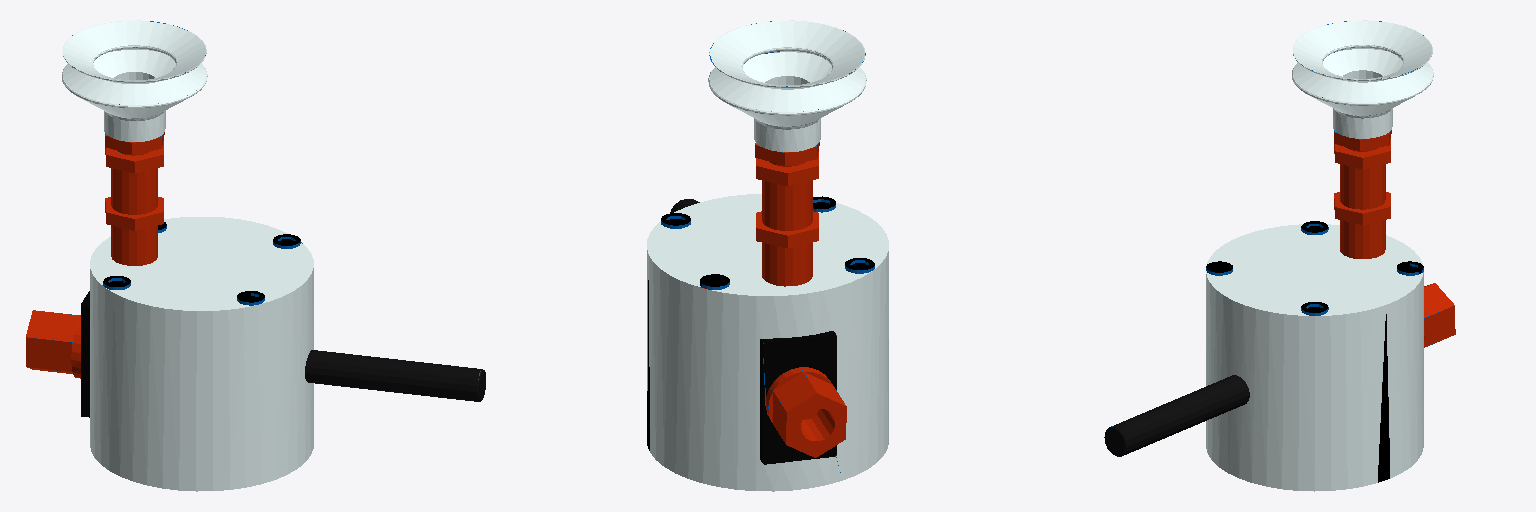
robot.urdf — vacuum_gripper:
<?xml version="1.0"?>
<robot name="vacuum_gripper">
      <!-- Create a fixed joint with a parameterized name. -->
      <link name="base_link">
      <visual>
        <geometry>
          <!-- The path to the visual meshes in the package. -->
          <mesh filename="package://ur3_vacuum_gripper_description/meshes/vacuum_gripper.dae"/>
          <!-- <mesh filename="package://ur3_vacuum_gripper_description/meshes/Proyecto.stl"/> -->

          <!-- <cylinder length="0.06" radius="0.03"/>  -->
        </geometry>
      </visual>
      <collision>
        <geometry>
          <!-- The path to the collision meshes in the package. -->
          <!-- <mesh filename="package://ur5_with_measurement_tool/meshes/collision/vacuum_gripper.stl"/> -->
          <cylinder length="0.06" radius="0.03"/> 
        </geometry>
      </collision>
    </link>

    <!-- TCP frame -->
    <joint name="tcp_joint" type="fixed">
      <origin xyz="0 0 0.116" rpy="0 0 0"/>
      <parent link="base_link"/>
      <child link="tcp"/>
    </joint>
    <link name="tcp"/>
</robot>

--- Render facts (derived) ---
3 views of the same robot in one strip: view 1: azimuth 30°, elevation 25°; view 2: azimuth 150°, elevation 25°; view 3: azimuth 270°, elevation 25° (orthographic).
Model vacuum_gripper with 2 links and 1 joints (1 fixed), rooted at base_link, posed every joint at zero.
Visible links, largest first — view 1: base_link; view 2: base_link; view 3: base_link.
Link boxes in pixels (left/top/right/bottom): base_link: left=26, top=20, right=485, bottom=491; base_link: left=647, top=20, right=888, bottom=491; base_link: left=1104, top=20, right=1455, bottom=491.
Size in the robot's own frame: 1.08 by 1.09 by 1.28 metres.
1 mesh visuals loaded from 1 distinct referenced files (1 Collada DAE).